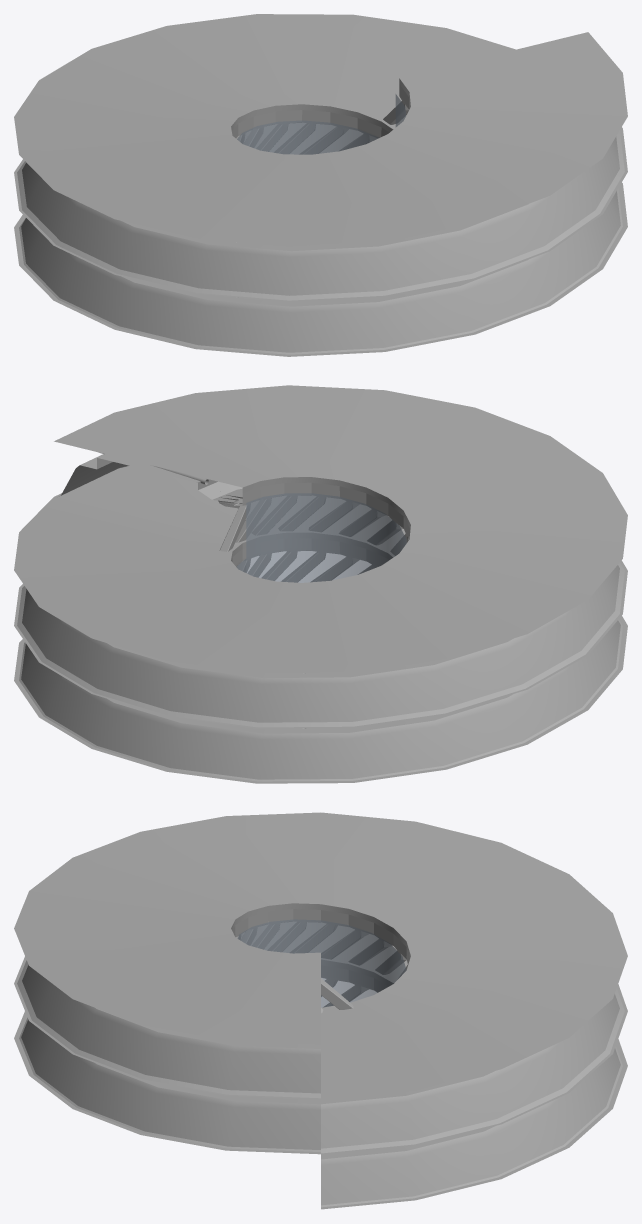
File: tou.fbx
3 renders of one model, top to bottom at view 1: azimuth 30°, elevation 25°; view 2: azimuth 150°, elevation 25°; view 3: azimuth 270°, elevation 25°, orthographic.
Parts seen in each view (by area): view 1: polySurface129; view 2: polySurface129; view 3: polySurface129.
Boxes of the visible parts, left/top/right/bottom form: polySurface129: left=14, top=14, right=627, bottom=356; polySurface129: left=14, top=385, right=627, bottom=783; polySurface129: left=14, top=812, right=627, bottom=1209.
Bounding box in the file's own units: 13.27 × 4.29 × 13.27.
